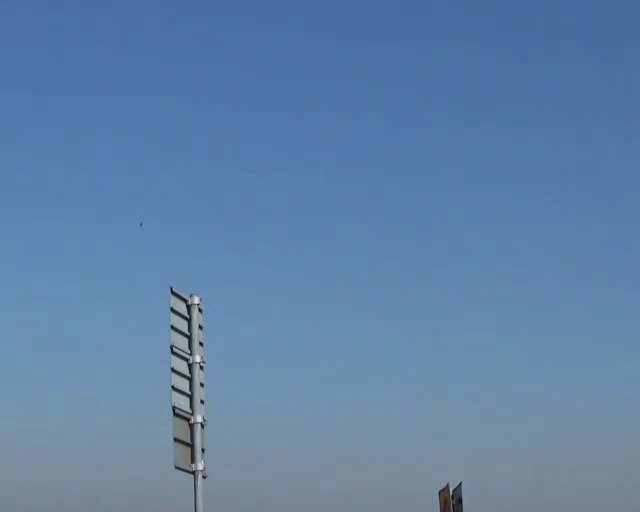BIRD: (136, 218, 146, 231)
